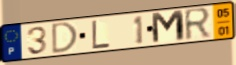1: (132, 14, 144, 46)
3: (26, 26, 49, 55)
D: (51, 21, 80, 56)
L: (91, 19, 112, 50)
M: (150, 9, 187, 46)
R: (183, 6, 214, 43)
